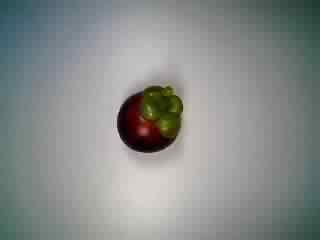mangosteen: (112, 81, 187, 158)
